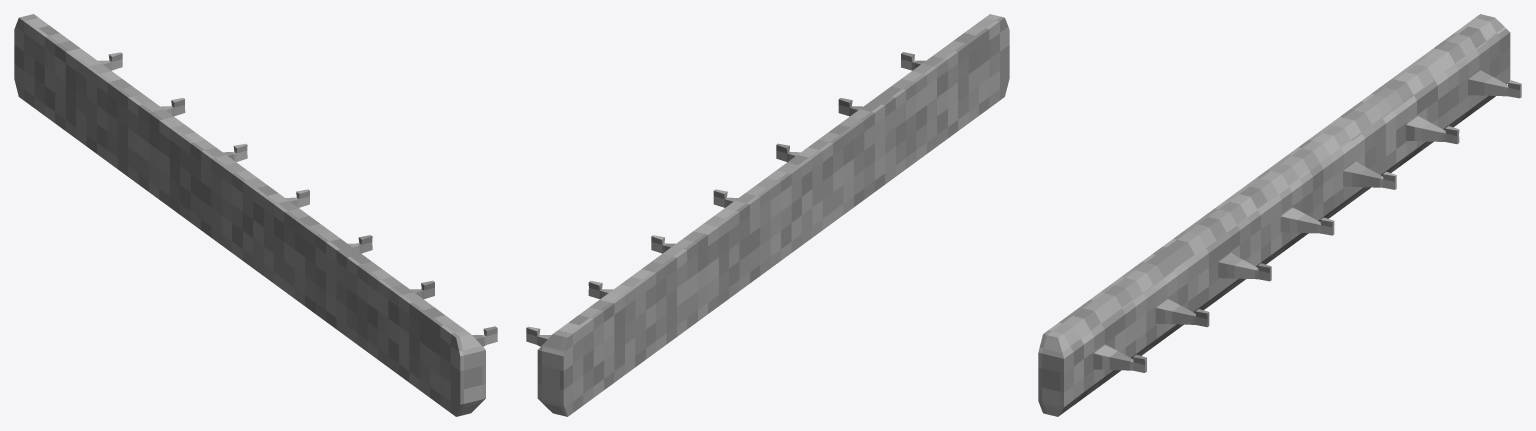
Rendered from panHanger.fbx.
3 renders of one model, left to right at view 1: azimuth 30°, elevation 25°; view 2: azimuth 150°, elevation 25°; view 3: azimuth 330°, elevation 25°, orthographic.
Visible parts, largest first — view 1: Hanger; view 2: Hanger; view 3: Hanger.
Part boxes in pixels (x1=…): Hanger: x1=14, y1=14, x2=497, y2=416; Hanger: x1=526, y1=14, x2=1009, y2=416; Hanger: x1=1038, y1=14, x2=1521, y2=416.
Size of the model in its own units: 57.02 by 60 by 612.
1 material, 1 textured.
